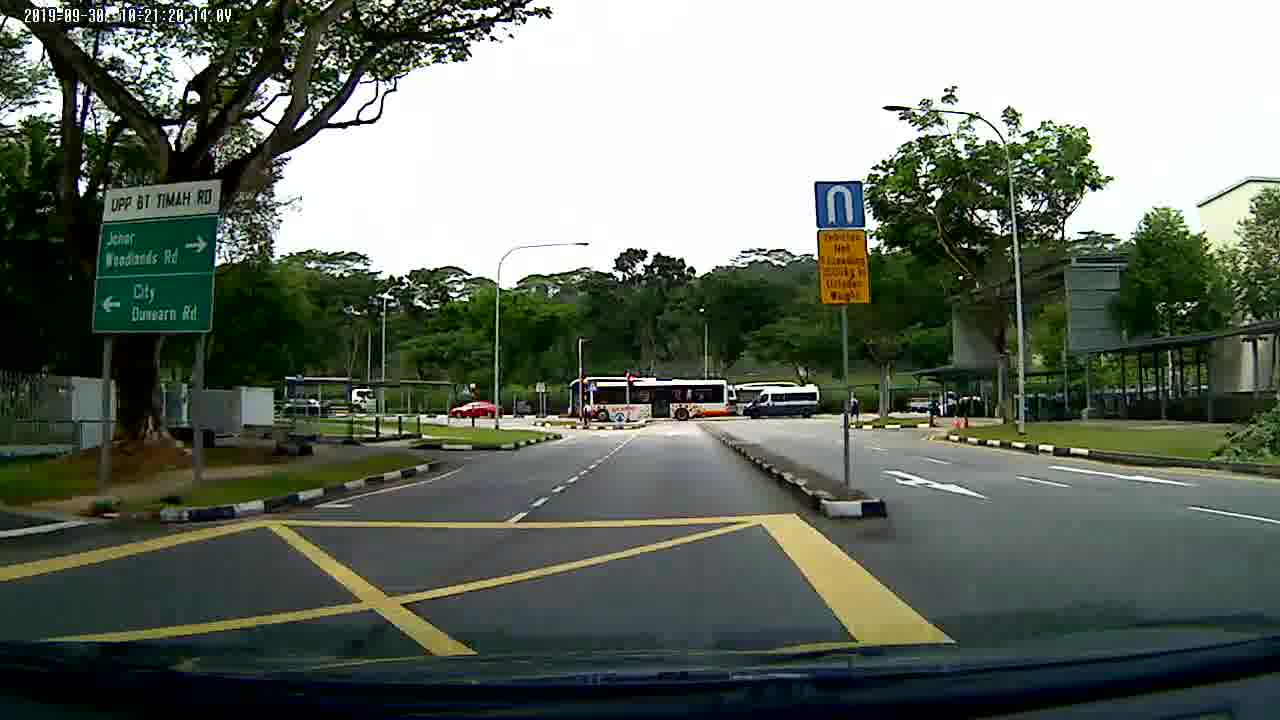bus: (568, 374, 730, 426)
car: (447, 400, 501, 422)
